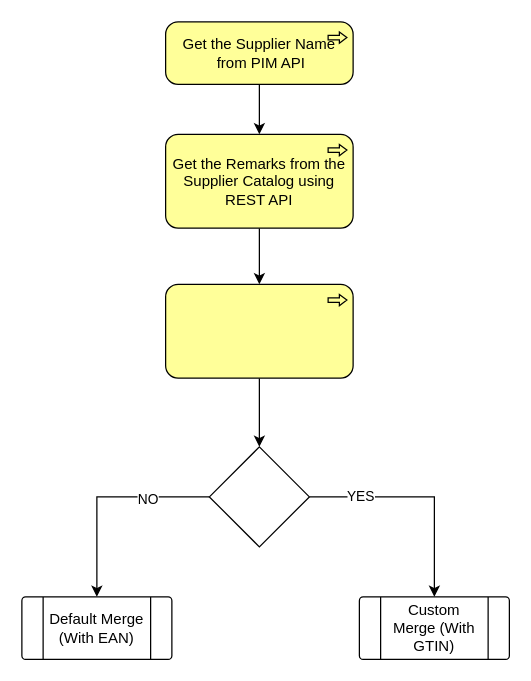
The diagram is 531 pixels wide and 681 high, and some of its shapes have lost their labels. Here are the shapes that lost their labels. From the top down, the centre of each, then its label:
point 258,330: Get the Comparison which is defined in server.properties
point 258,496: Compare
